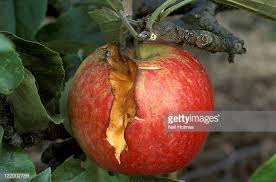damaged_apple: (69, 44, 213, 168)
